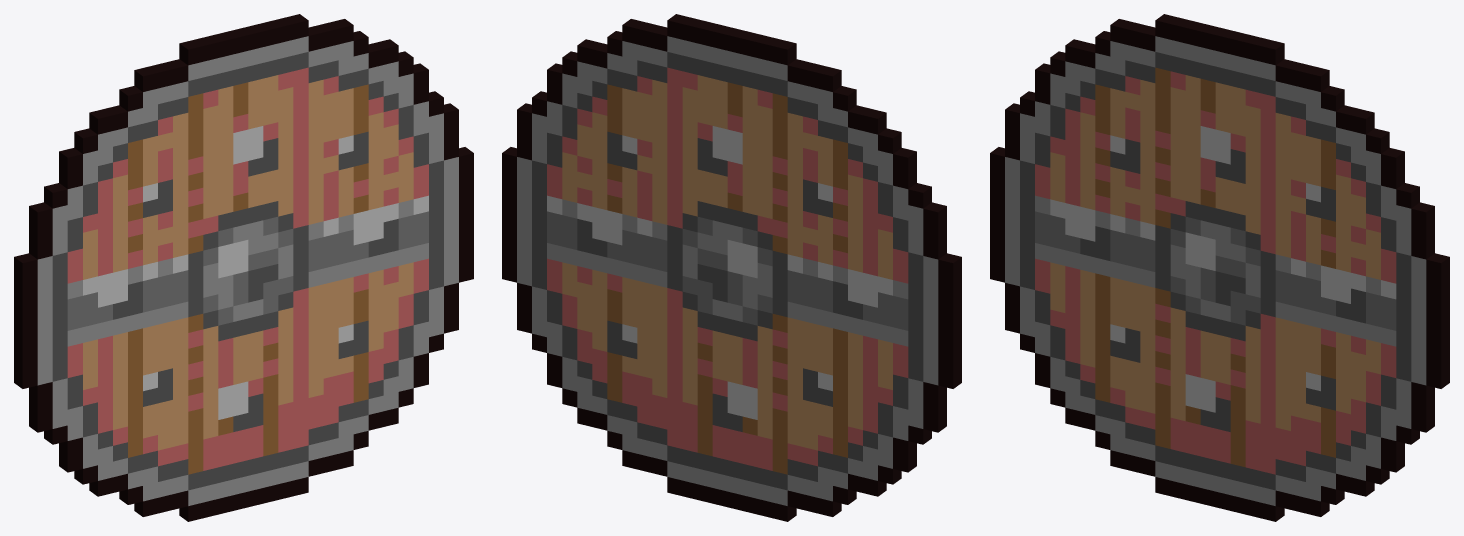
File: E_Wood02.fbx
3 renders of one model, left to right at view 1: azimuth 30°, elevation 25°; view 2: azimuth 150°, elevation 25°; view 3: azimuth 330°, elevation 25°, orthographic.
Parts seen in each view (by area): view 1: Default; view 2: Default; view 3: Default.
Part boxes in pixels (x1,y1,x2,y2): Default: (14,14,473,521); Default: (502,14,961,521); Default: (990,14,1449,521).
Bounding box in the file's own units: 30 × 30 × 1.
Materials: 1 (1 with a texture image).
